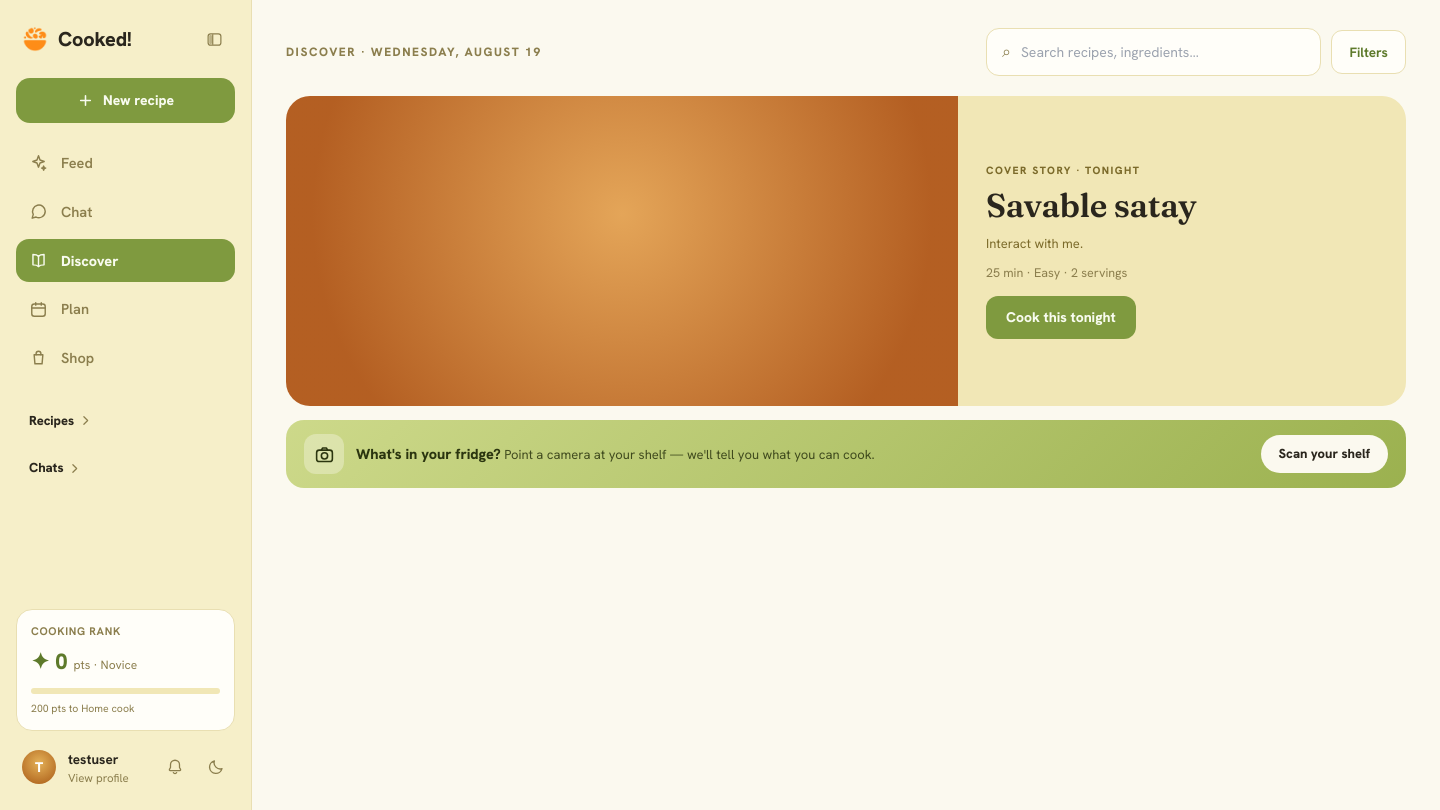
BrowsePage social adoption › browse cards save through the shared hook
Type "satay" into the field labelled "Search recipes". click: (1163, 52)
box: [1021,42,1305,62]
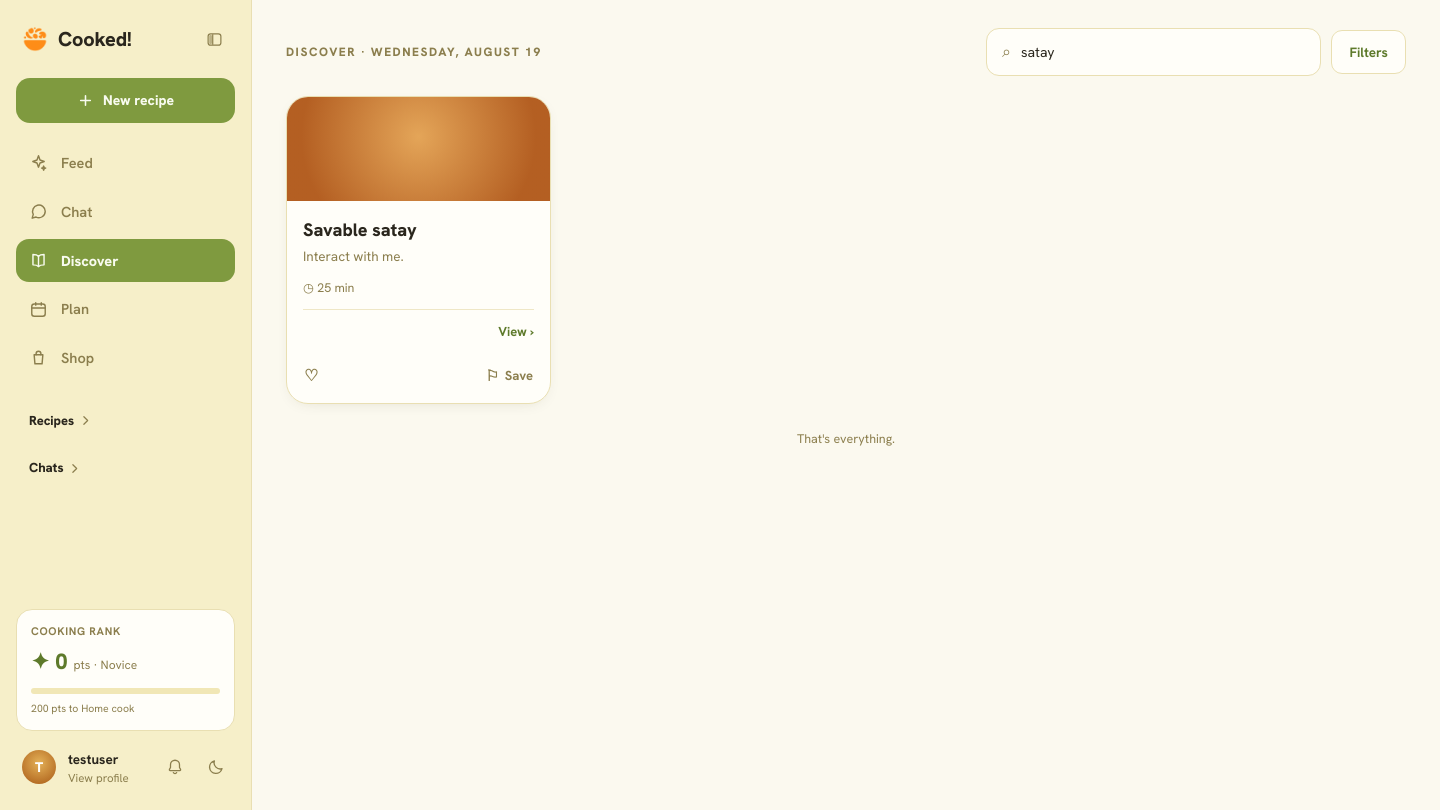
Expected: the text "Savable satay" is shown, [303,216,417,243]
Click the button with aria-label "Save recipe". click: (509, 376)
box: [476,358,542,394]
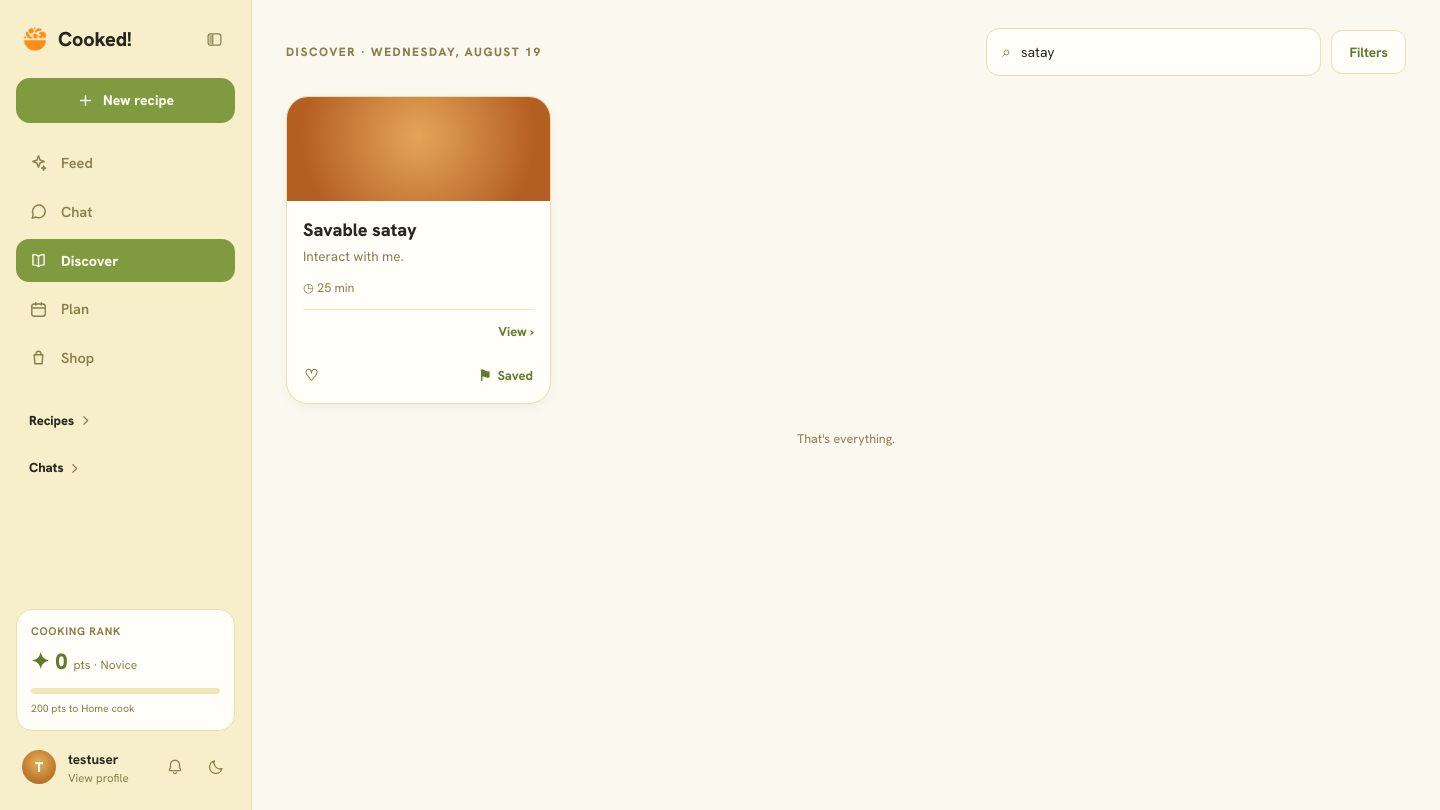
Expected: the button with aria-label "Remove from saved" is shown, [469,358,542,394]
